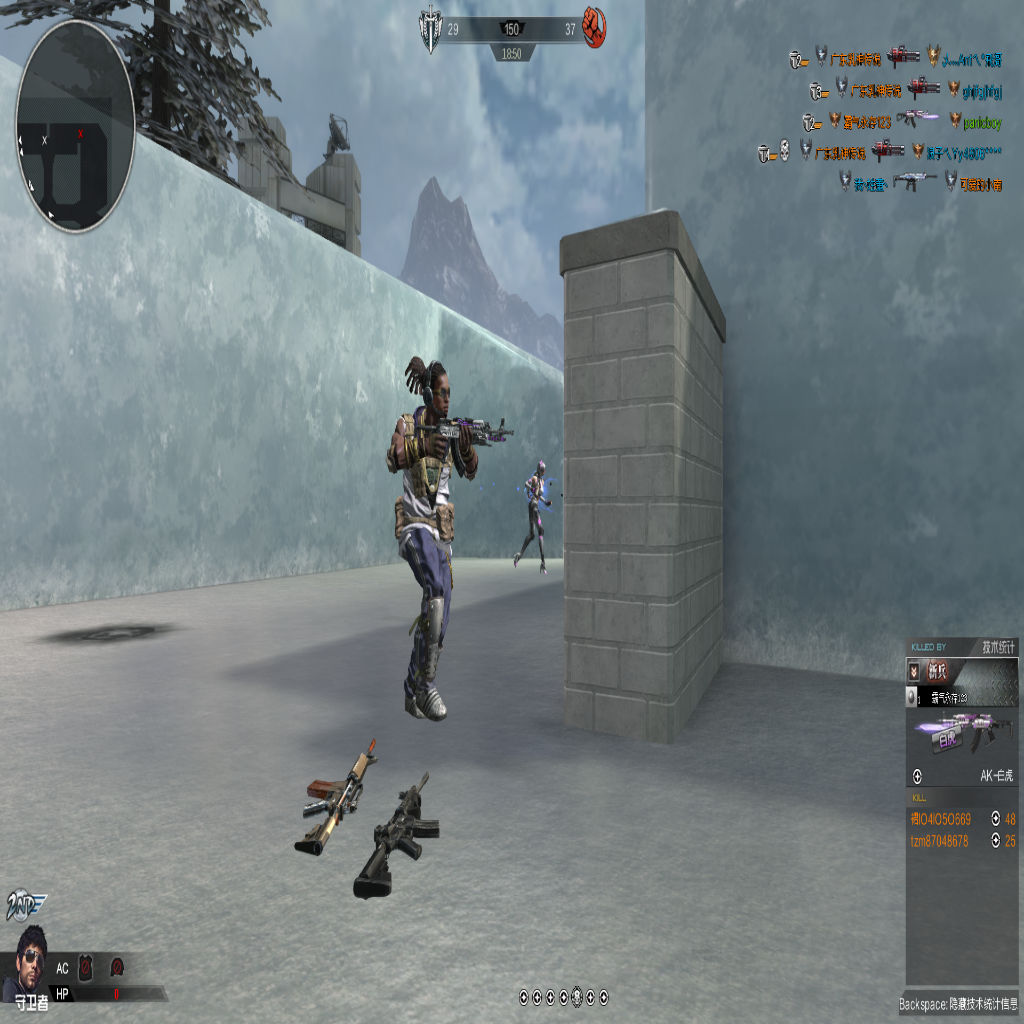tt: (386, 365, 490, 728), (513, 466, 554, 573)
